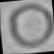no answer: (3, 0, 54, 52)
